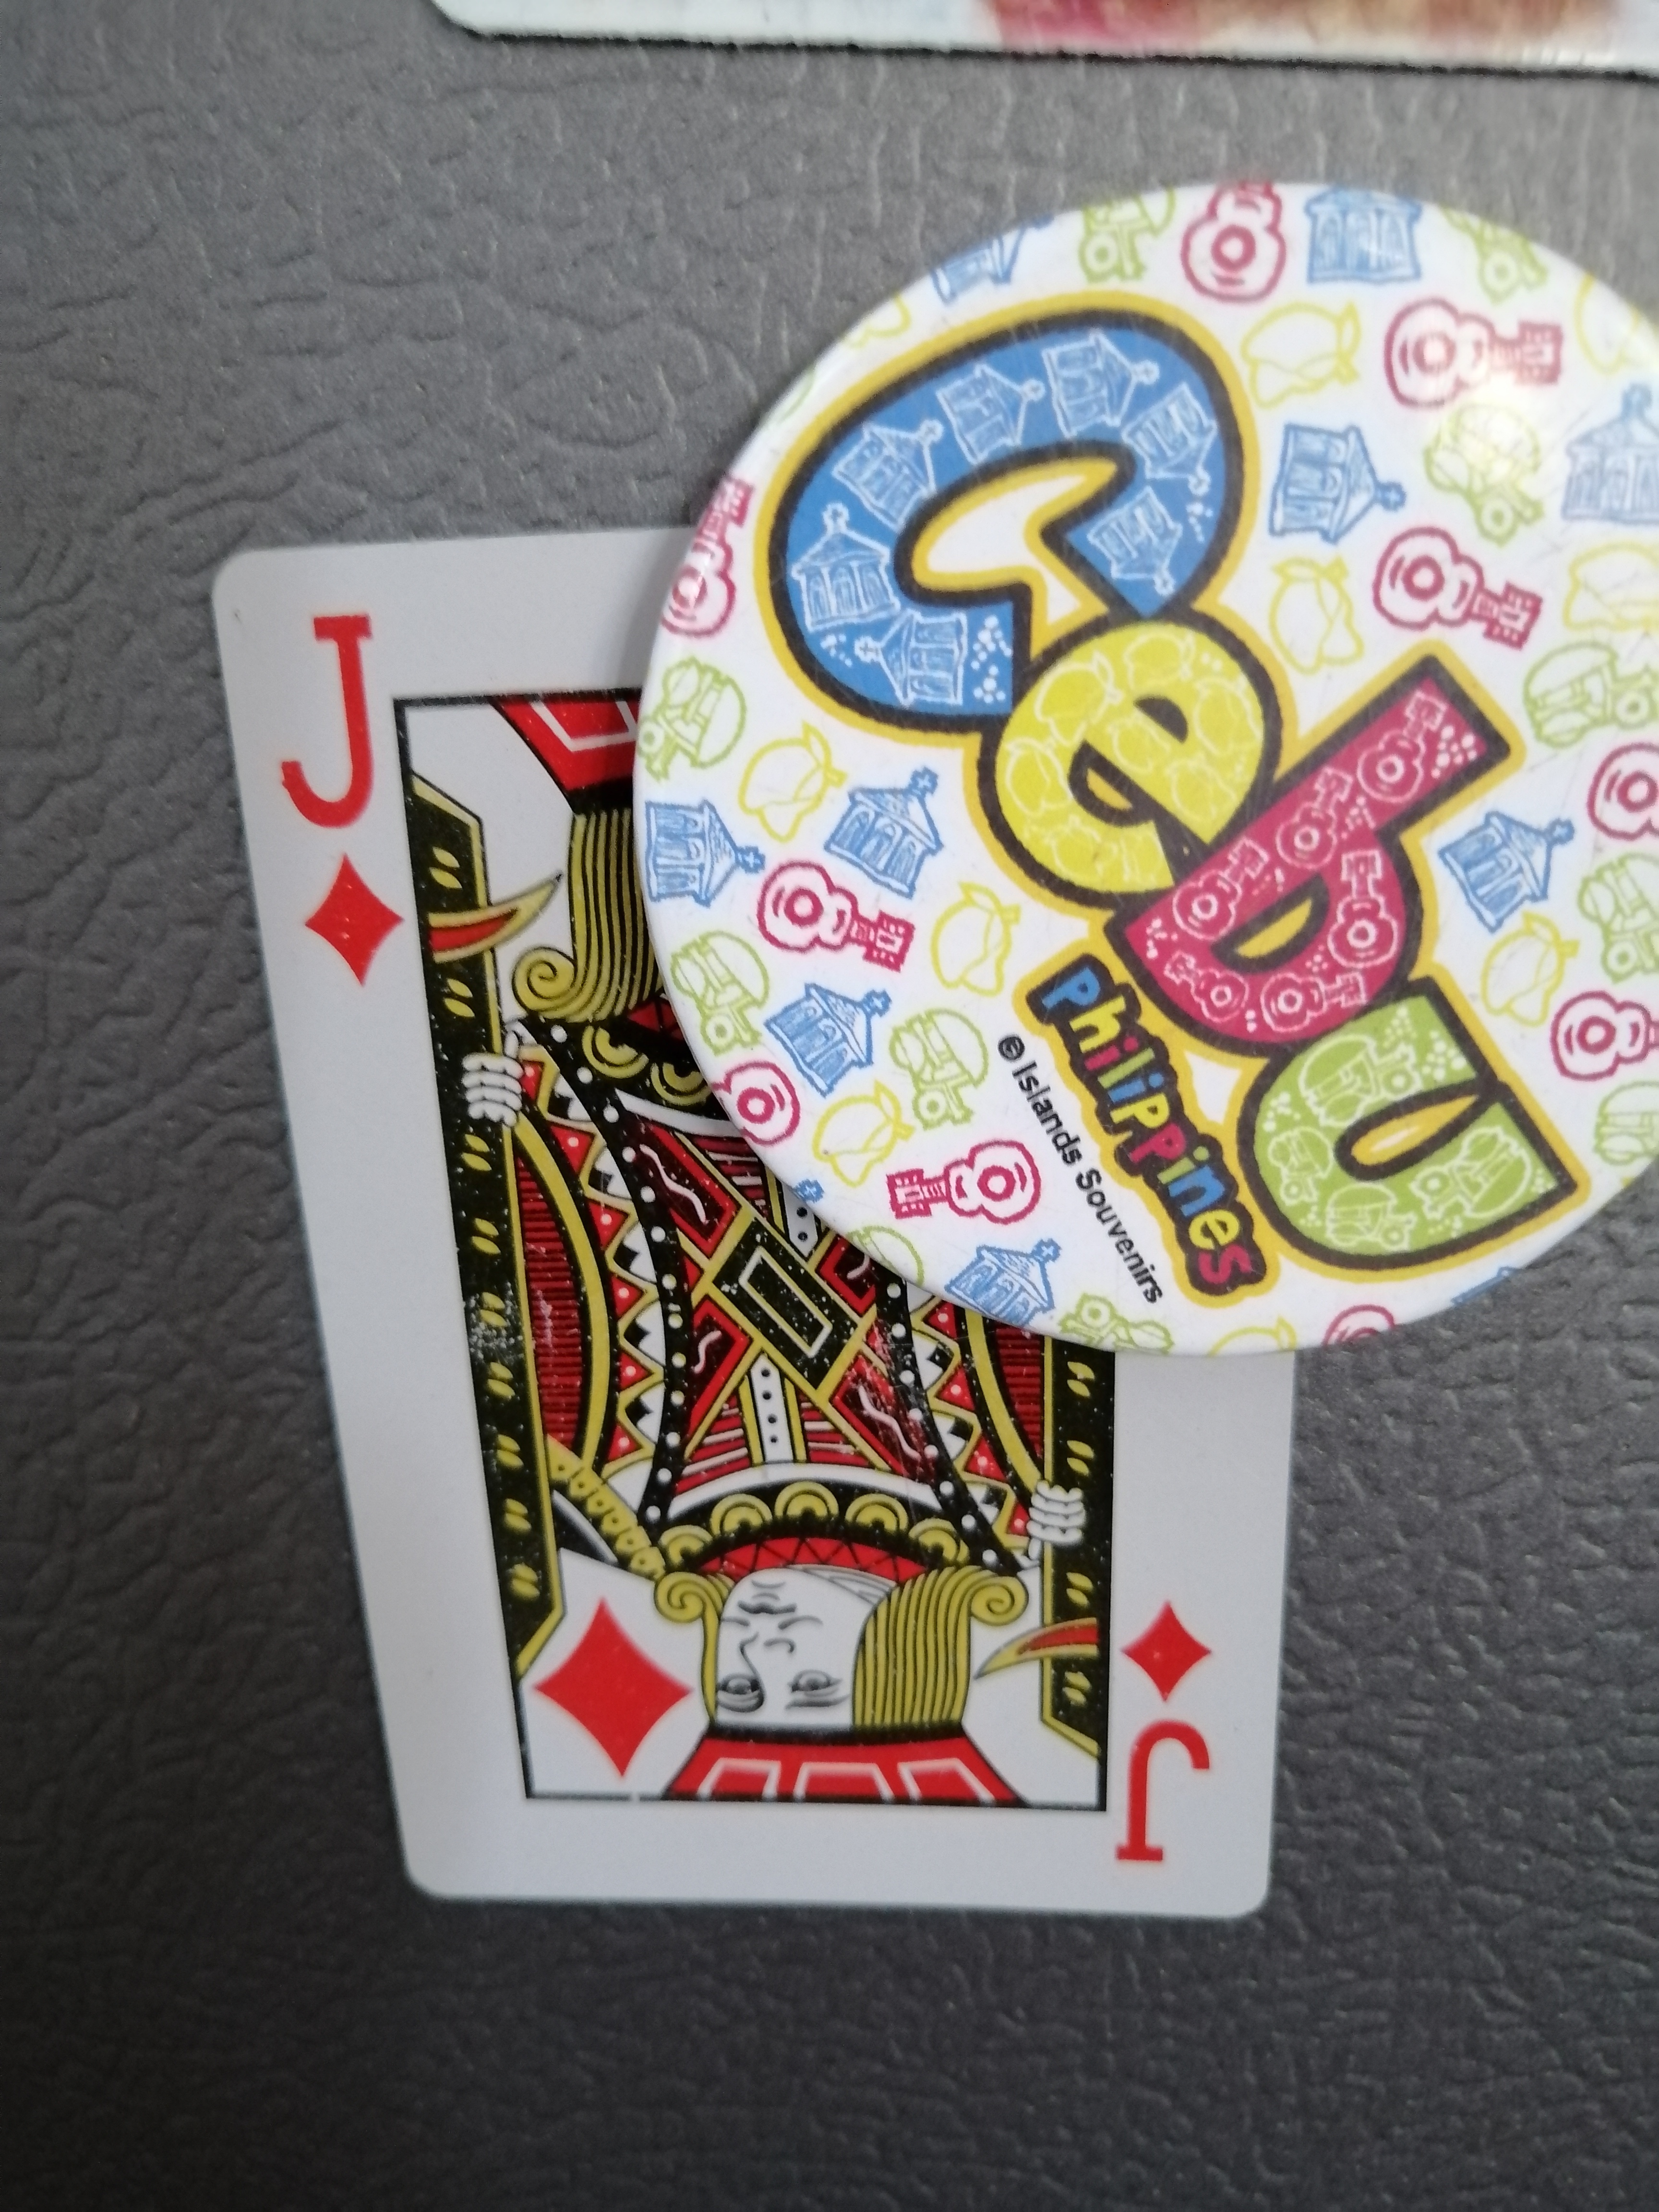jack: (188, 505, 1248, 1890)
